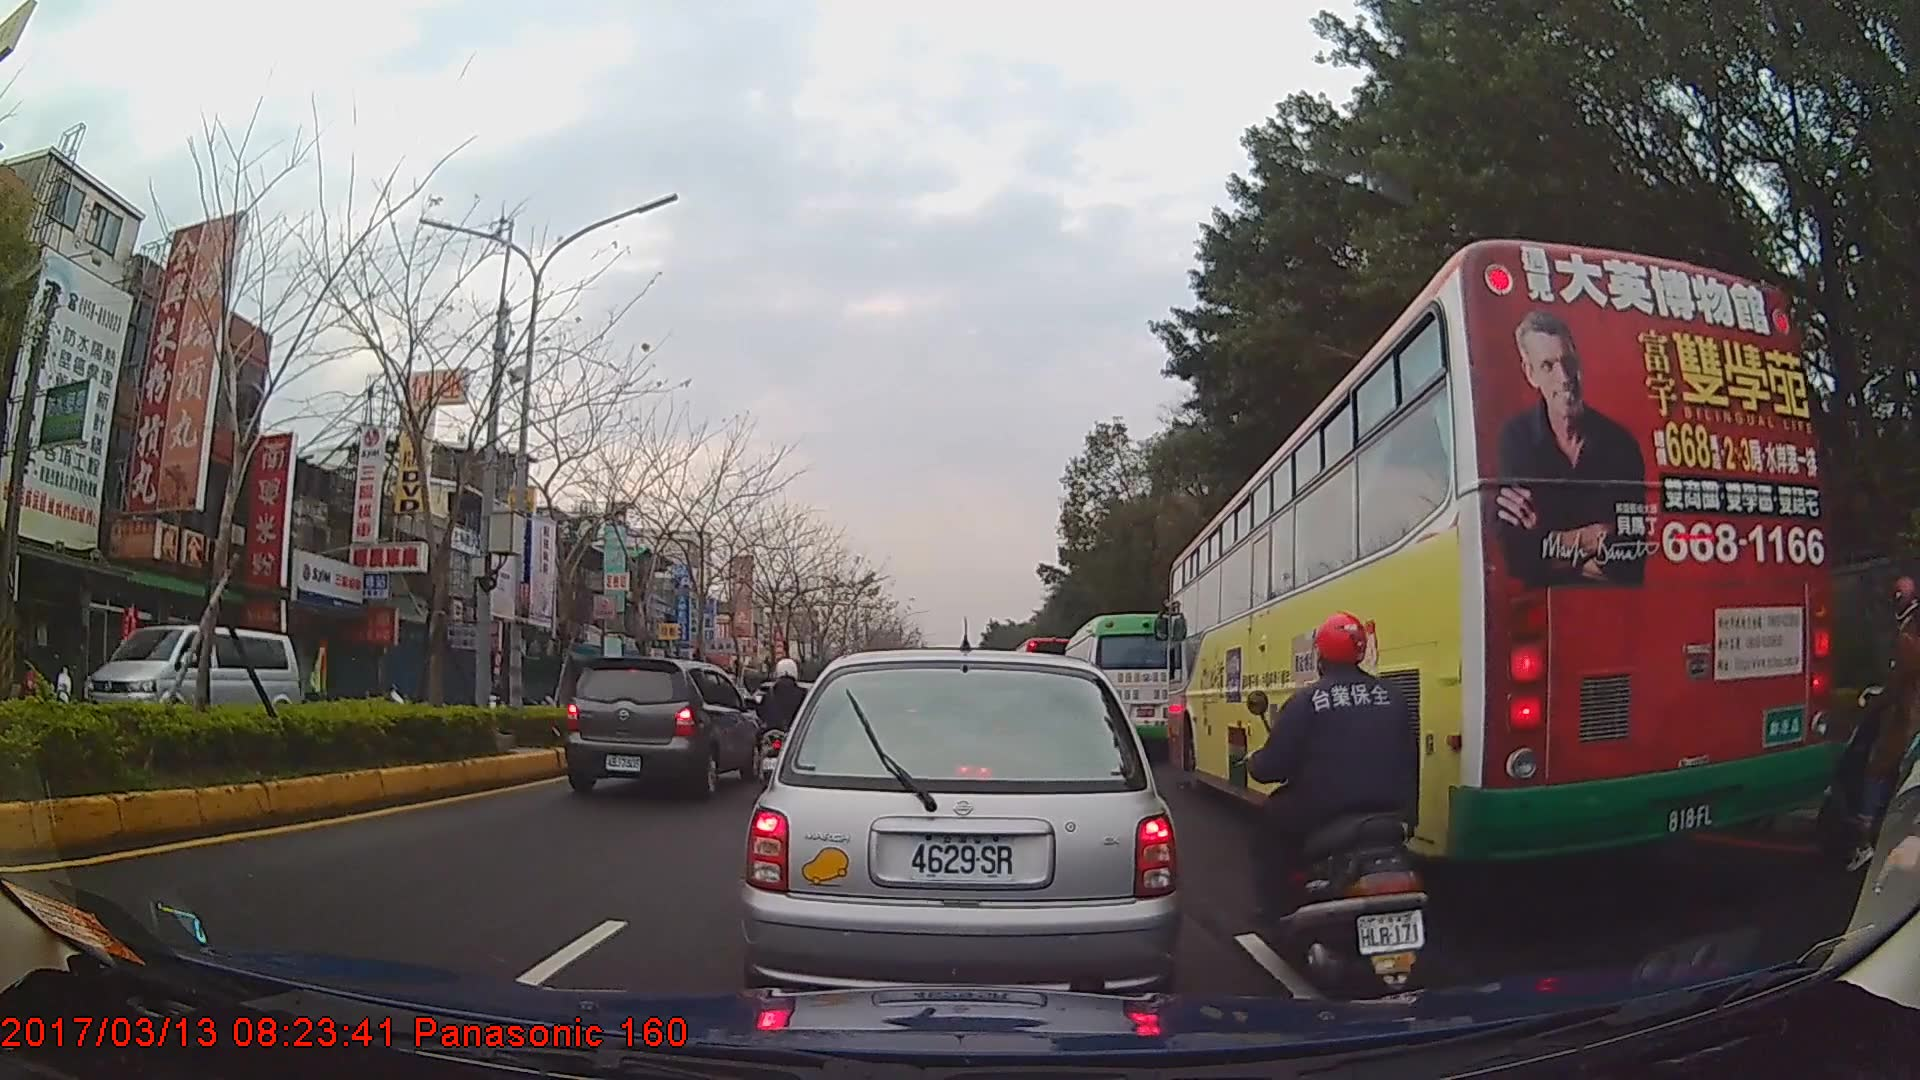rider: (1240, 608, 1432, 997), (1821, 577, 1920, 876), (754, 659, 816, 783)
vehicle: (1166, 236, 1839, 871), (743, 649, 1181, 1011), (562, 658, 760, 797), (86, 625, 299, 749), (1059, 612, 1181, 757)
